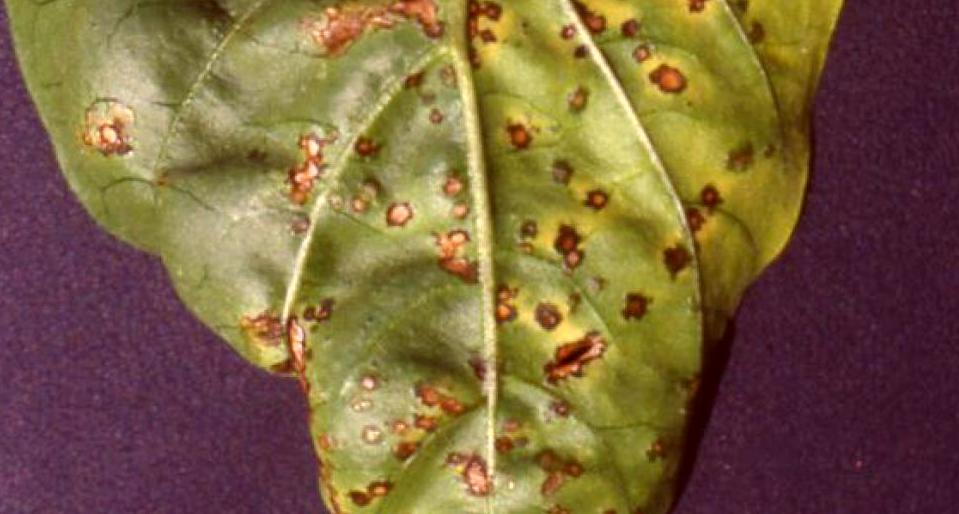Tomato Septoria leaf spot: (4, 0, 859, 514)
